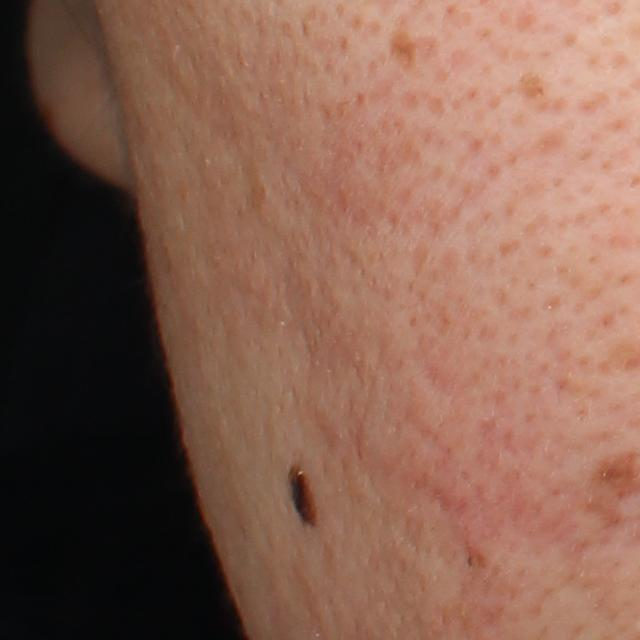atrophic_scar: (412, 337, 474, 416), (417, 483, 479, 546), (574, 494, 627, 550)
nevus: (290, 459, 320, 534)
